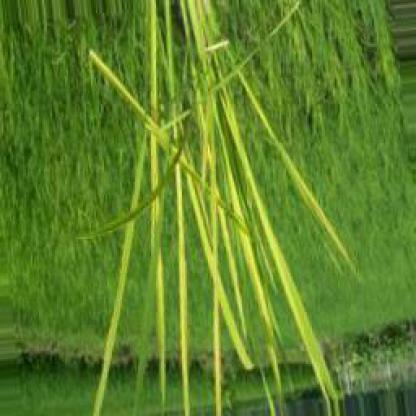Tungro: (247, 174, 344, 416), (250, 105, 357, 268), (92, 127, 149, 416), (186, 154, 258, 365), (159, 3, 250, 123), (147, 3, 170, 416), (178, 131, 190, 415), (212, 172, 224, 416)
